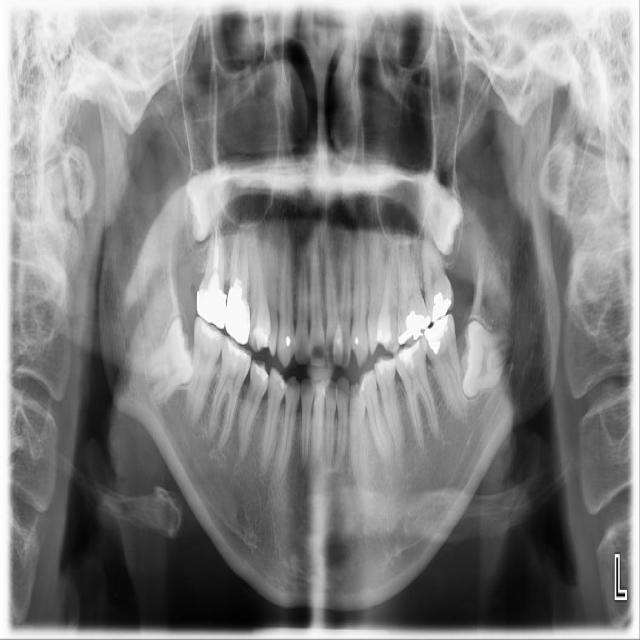3M ESPE Implant: (183, 160, 241, 243)
52: (411, 308, 469, 366), (385, 331, 441, 385), (206, 333, 261, 384), (180, 314, 232, 363), (416, 272, 461, 324), (396, 295, 432, 346), (224, 287, 252, 346), (194, 286, 227, 330), (377, 306, 403, 354), (247, 305, 272, 352), (372, 354, 399, 391), (350, 318, 369, 370), (265, 366, 289, 407), (276, 323, 296, 369), (250, 358, 270, 398)
73: (615, 566, 618, 570)
BioHorizons Implant: (414, 205, 457, 323)
BioLife Implant: (404, 159, 479, 259)
Biomet 3i Implant: (447, 318, 518, 406)
Blue Sky Bio Implant: (417, 312, 472, 425)
Caries: (196, 214, 226, 329)
Implant: (181, 315, 227, 425)
Keystone Dental Implant: (127, 314, 217, 413)
